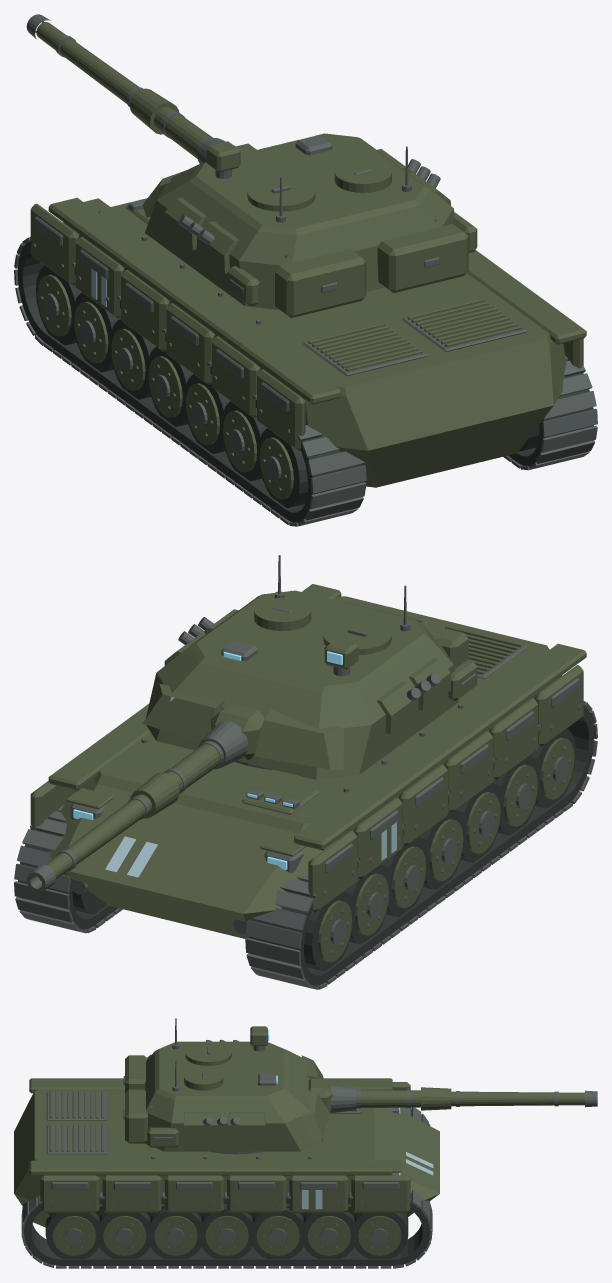
The model's file is atlas_mbt.glb.
The picture shows the model from 3 angles, top to bottom: view 1: azimuth 30°, elevation 25°; view 2: azimuth 150°, elevation 25°; view 3: azimuth 270°, elevation 25°; orthographic projection. The views are drawn at different scales.
Parts seen in each view (by area): view 1: Hull, Turret, Gun; view 2: Hull, Turret, Gun; view 3: Hull, Turret, Gun.
Boxes of the visible parts, left/top/right/bottom form: Hull: left=14, top=197, right=597, bottom=526; Turret: left=142, top=133, right=477, bottom=317; Gun: left=26, top=14, right=256, bottom=163; Hull: left=14, top=584, right=597, bottom=989; Turret: left=143, top=555, right=477, bottom=779; Gun: left=26, top=703, right=264, bottom=892; Hull: left=14, top=1078, right=439, bottom=1268; Turret: left=123, top=1018, right=330, bottom=1154; Gun: left=308, top=1078, right=597, bottom=1113.
Bounding box in the file's own units: 3.78 × 3.26 × 9.48.
